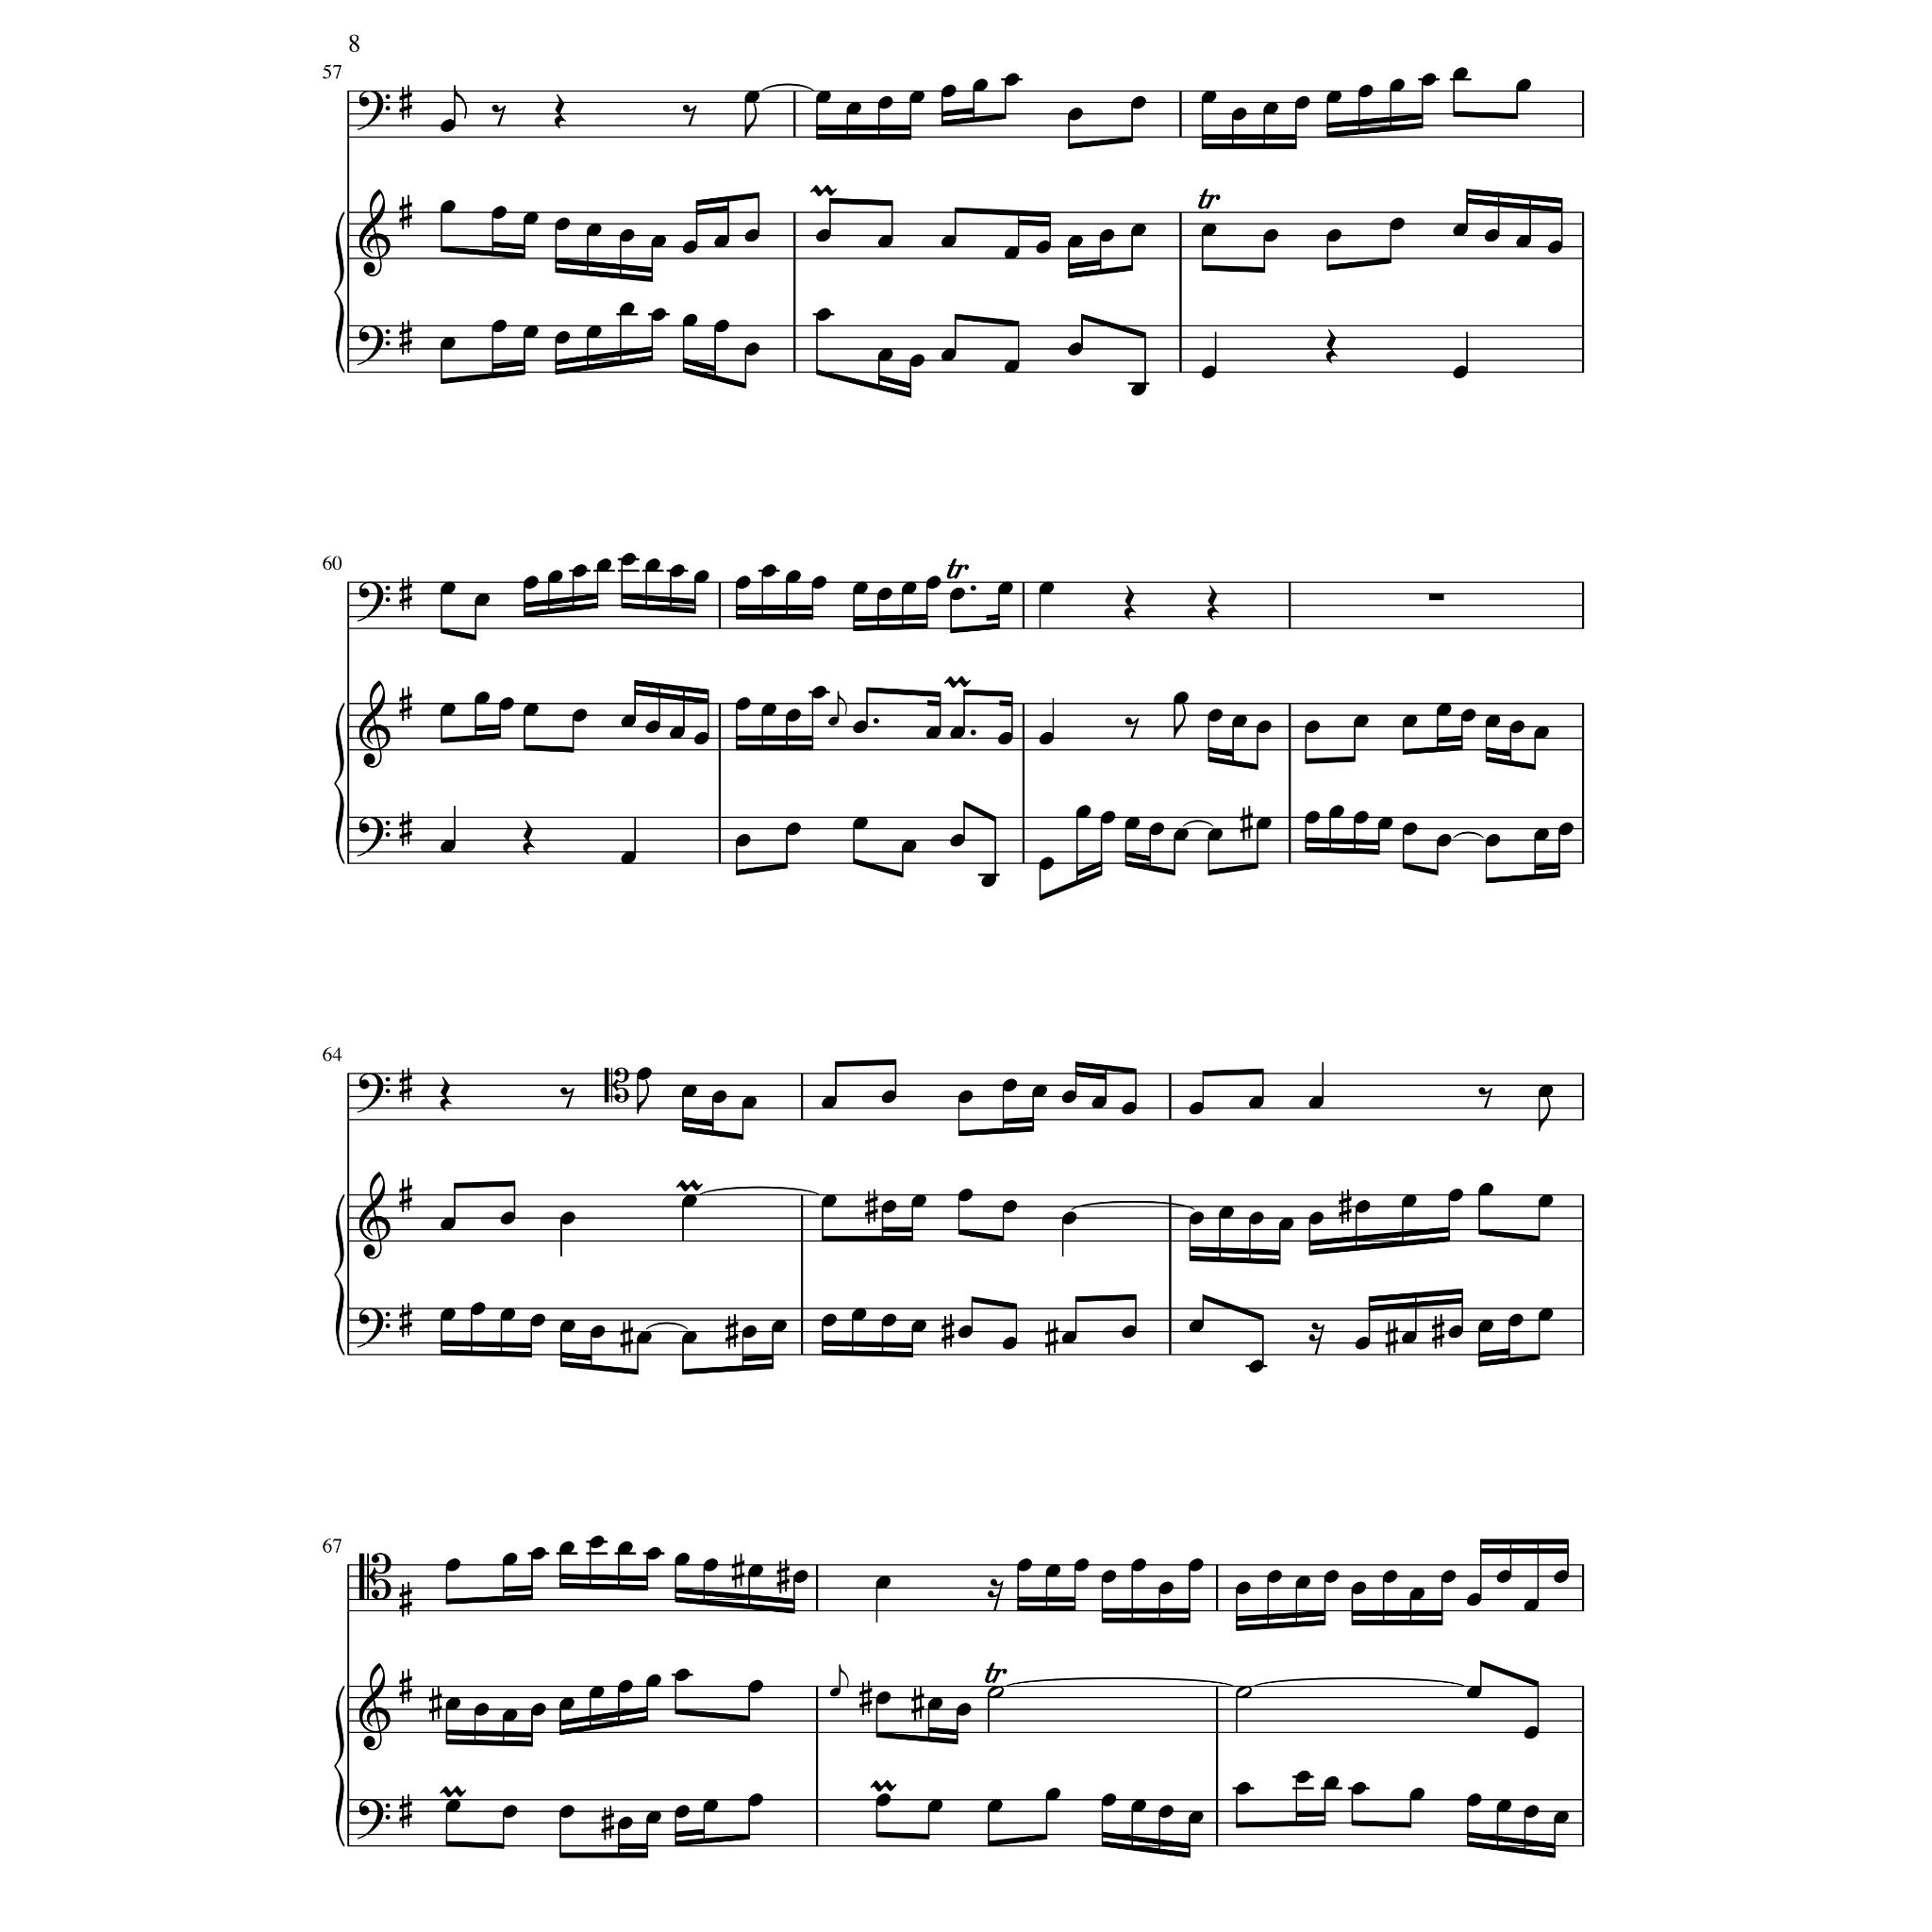brace: (333, 211, 345, 373), (333, 702, 345, 865), (333, 1194, 345, 1355), (333, 1686, 345, 1847)
fClef: (357, 326, 391, 366), (357, 90, 391, 131), (357, 816, 391, 856), (357, 582, 391, 623), (357, 1307, 391, 1348), (357, 1074, 391, 1113), (357, 1799, 391, 1838)
flag8thDown: (745, 104, 757, 138), (1175, 704, 1187, 738), (1537, 1097, 1550, 1131), (637, 1081, 649, 1115)
flag8thUp: (453, 87, 467, 120), (837, 692, 847, 717), (839, 1665, 847, 1688)
gClef: (359, 679, 391, 770), (359, 189, 391, 278), (359, 1171, 391, 1260), (359, 1663, 391, 1752)
noteheadBlack: (644, 720, 662, 734), (616, 1541, 633, 1555), (616, 1679, 633, 1693), (616, 1815, 633, 1829), (1201, 223, 1217, 237), (1131, 223, 1146, 237), (1131, 96, 1146, 110), (1201, 90, 1217, 104), (1131, 382, 1146, 396), (1003, 246, 1019, 260), (1003, 359, 1019, 373), (1293, 96, 1309, 110), (1325, 90, 1341, 104), (1453, 67, 1468, 81), (1453, 223, 1468, 237), (1389, 218, 1405, 232), (586, 223, 602, 237), (554, 218, 570, 232), (554, 331, 570, 345), (651, 308, 667, 322), (441, 119, 456, 133), (441, 200, 456, 214), (441, 336, 456, 350), (492, 318, 508, 333), (492, 207, 508, 221), (878, 96, 893, 110), (909, 354, 925, 368), (909, 90, 925, 104), (939, 349, 955, 363), (878, 349, 893, 363), (743, 90, 759, 104), (713, 318, 729, 333), (816, 308, 832, 322), (816, 90, 832, 104), (1173, 692, 1189, 706), (1173, 828, 1189, 842), (1207, 828, 1223, 842), (1256, 720, 1272, 734), (1304, 720, 1320, 734), (1231, 715, 1247, 729), (1039, 856, 1054, 870), (980, 874, 996, 888), (1509, 720, 1525, 734), (1534, 828, 1550, 842), (1484, 833, 1500, 847), (1352, 715, 1368, 729), (1437, 702, 1453, 717), (1437, 833, 1453, 847), (1484, 715, 1500, 729), (1401, 715, 1417, 729), (621, 552, 637, 566), (621, 715, 637, 729), (621, 851, 637, 865), (571, 564, 587, 579), (669, 564, 685, 579), (441, 702, 456, 717), (499, 697, 515, 711), (522, 575, 538, 589), (522, 702, 538, 717), (474, 692, 490, 706), (474, 593, 490, 607), (853, 720, 869, 734), (810, 575, 826, 589), (925, 575, 941, 589), (950, 587, 966, 602), (950, 833, 966, 847), (761, 564, 777, 579), (761, 702, 777, 717), (734, 575, 750, 589), (734, 697, 750, 711), (734, 833, 750, 847), (1307, 1212, 1323, 1226), (1001, 1336, 1017, 1350), (1249, 1359, 1265, 1373), (1249, 1212, 1265, 1226), (1062, 1090, 1077, 1104), (1062, 1212, 1077, 1226), (1062, 1330, 1077, 1345), (1031, 1085, 1047, 1099), (1189, 1212, 1205, 1226), (1189, 1318, 1205, 1332), (1122, 1325, 1138, 1339), (1537, 1085, 1553, 1099), (1537, 1194, 1553, 1208), (1537, 1307, 1553, 1322), (1401, 1194, 1417, 1208), (1401, 1330, 1417, 1345), (1353, 1200, 1369, 1214), (1353, 1336, 1369, 1350), (1477, 1318, 1493, 1332), (1447, 1325, 1463, 1339), (589, 1325, 605, 1339), (637, 1067, 653, 1081), (637, 1330, 653, 1345), (559, 1212, 575, 1226), (559, 1318, 575, 1332), (681, 1330, 697, 1345), (1001, 1200, 1017, 1214), (711, 1090, 727, 1104), (681, 1085, 697, 1099), (681, 1194, 697, 1208), (441, 1307, 456, 1322), (499, 1212, 515, 1226), (499, 1307, 515, 1322), (911, 1194, 927, 1208), (881, 1090, 897, 1104), (881, 1200, 897, 1214), (1001, 1077, 1017, 1092), (851, 1307, 867, 1322), (957, 1325, 973, 1339), (957, 1090, 973, 1104), (911, 1318, 927, 1332), (821, 1194, 837, 1208), (771, 1318, 787, 1332), (741, 1325, 757, 1339), (1235, 1782, 1251, 1796), (1187, 1810, 1203, 1824), (1235, 1580, 1251, 1594), (1267, 1569, 1283, 1583), (1295, 1575, 1311, 1589), (1323, 1569, 1339, 1583), (1046, 1564, 1062, 1578), (1046, 1787, 1062, 1801), (1159, 1580, 1175, 1594), (1100, 1569, 1116, 1583), (1553, 1569, 1569, 1583), (1553, 1810, 1569, 1824), (1408, 1587, 1424, 1601), (1382, 1569, 1398, 1583), (1408, 1787, 1424, 1801), (1350, 1580, 1366, 1594), (1350, 1782, 1366, 1796), (1495, 1569, 1511, 1583), (1440, 1569, 1456, 1583), (529, 1546, 545, 1560), (529, 1702, 545, 1716), (559, 1541, 575, 1555), (559, 1697, 575, 1711), (646, 1546, 662, 1560), (646, 1674, 662, 1688), (444, 1697, 460, 1711), (501, 1707, 517, 1721), (646, 1810, 662, 1824), (472, 1702, 488, 1716), (876, 1575, 892, 1589), (793, 1569, 809, 1583), (955, 1702, 971, 1716), (927, 1697, 943, 1711), (748, 1564, 764, 1578), (674, 1667, 690, 1681), (748, 1679, 764, 1693), (971, 80, 989, 92), (1483, 230, 1500, 242), (1099, 812, 1116, 824), (644, 559, 662, 571), (901, 582, 918, 594), (901, 840, 918, 853), (985, 1799, 1003, 1812), (587, 1536, 605, 1548), (587, 1686, 605, 1698), (878, 587, 892, 602), (1219, 1205, 1233, 1219), (1467, 1592, 1481, 1606), (1201, 366, 1217, 379), (1231, 108, 1247, 120), (1263, 103, 1279, 115), (1263, 230, 1279, 242), (1003, 74, 1019, 87), (1099, 230, 1115, 242), (1067, 343, 1083, 356), (1067, 235, 1083, 248), (1067, 108, 1083, 120), (1035, 241, 1051, 253), (1546, 241, 1562, 253), (1516, 80, 1532, 92), (1516, 235, 1532, 248), (1357, 85, 1373, 97), (1325, 230, 1341, 242), (1453, 366, 1468, 379), (1421, 74, 1437, 87), (1389, 80, 1405, 92), (586, 326, 602, 338), (651, 235, 667, 248), (681, 241, 697, 253), (681, 315, 697, 327), (619, 230, 635, 242), (619, 303, 635, 315), (522, 326, 538, 338), (522, 212, 538, 225), (846, 103, 862, 115), (878, 235, 893, 248), (939, 85, 955, 97), (939, 235, 955, 248), (743, 343, 759, 356), (743, 230, 759, 242), (713, 235, 729, 248), (816, 230, 832, 242), (1207, 709, 1223, 722), (1148, 823, 1164, 835), (1256, 817, 1272, 830), (1304, 812, 1320, 824), (1039, 582, 1054, 594), (1039, 732, 1054, 745), (998, 582, 1014, 594), (998, 732, 1014, 745), (1076, 805, 1092, 817), (1123, 817, 1139, 830), (1559, 823, 1575, 835), (1534, 727, 1550, 740), (1329, 805, 1345, 817), (1352, 812, 1368, 824), (1460, 709, 1476, 722), (1401, 823, 1417, 835), (1378, 817, 1394, 830), (596, 559, 612, 571), (547, 571, 563, 584), (571, 709, 587, 722), (694, 571, 709, 584), (694, 732, 709, 745), (669, 727, 685, 740), (441, 582, 456, 594), (441, 840, 456, 853), (853, 582, 869, 594), (853, 817, 869, 830), (810, 686, 826, 699), (925, 727, 941, 740), (950, 727, 966, 740), (784, 823, 800, 835), (784, 709, 800, 722), (784, 571, 800, 584), (1307, 1097, 1323, 1109), (1277, 1217, 1293, 1230), (1249, 1097, 1265, 1109), (1189, 1102, 1205, 1115), (1122, 1102, 1138, 1115), (1507, 1315, 1523, 1327), (1477, 1184, 1493, 1196), (1447, 1189, 1463, 1201), (529, 1315, 545, 1327), (441, 1217, 456, 1230), (469, 1302, 485, 1315), (881, 1315, 897, 1327), (957, 1189, 973, 1201), (821, 1315, 837, 1327), (821, 1097, 837, 1109), (741, 1097, 757, 1109), (1187, 1559, 1203, 1571), (1323, 1776, 1339, 1789), (1295, 1771, 1311, 1783), (1074, 1559, 1090, 1571), (1017, 1559, 1033, 1571), (1159, 1805, 1175, 1817), (1100, 1794, 1116, 1806), (1131, 1559, 1146, 1571), (1131, 1799, 1146, 1812), (1523, 1599, 1539, 1612), (1523, 1727, 1539, 1739), (1523, 1805, 1539, 1817), (1495, 1799, 1511, 1812), (559, 1805, 575, 1817), (444, 1559, 460, 1571), (444, 1799, 460, 1812), (501, 1553, 517, 1566), (501, 1805, 517, 1817), (876, 1691, 892, 1704), (876, 1794, 892, 1806), (927, 1799, 943, 1812), (674, 1805, 690, 1817), (702, 1799, 718, 1812), (702, 1559, 718, 1571), (674, 1553, 690, 1566), (748, 1794, 764, 1806), (1092, 1097, 1106, 1109), (1467, 1686, 1481, 1698), (1467, 1794, 1481, 1806), (828, 717, 839, 727), (830, 1688, 840, 1697)
noteheadHalf: (1235, 1686, 1253, 1698), (987, 1686, 1003, 1698)
rest16th: (1309, 1322, 1325, 1355), (987, 1578, 1003, 1612)
rest8th: (1477, 1086, 1493, 1109), (559, 1086, 575, 1109), (683, 104, 697, 127), (492, 104, 506, 127), (1125, 717, 1139, 740)
restQuarter: (522, 819, 534, 856), (439, 1076, 451, 1113), (1325, 329, 1338, 364), (554, 94, 566, 129), (1207, 586, 1219, 621), (1123, 586, 1136, 621)
restWhole: (1428, 593, 1444, 602)
